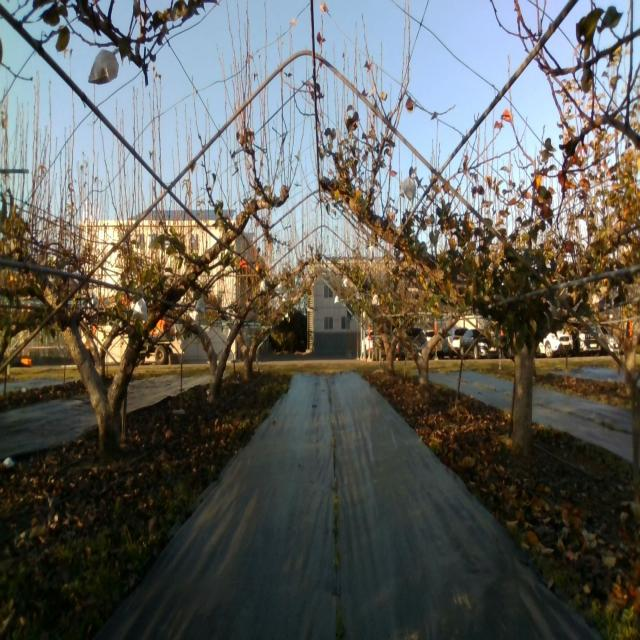pearbags: (89, 48, 119, 84), (400, 177, 418, 208), (132, 298, 148, 324)
